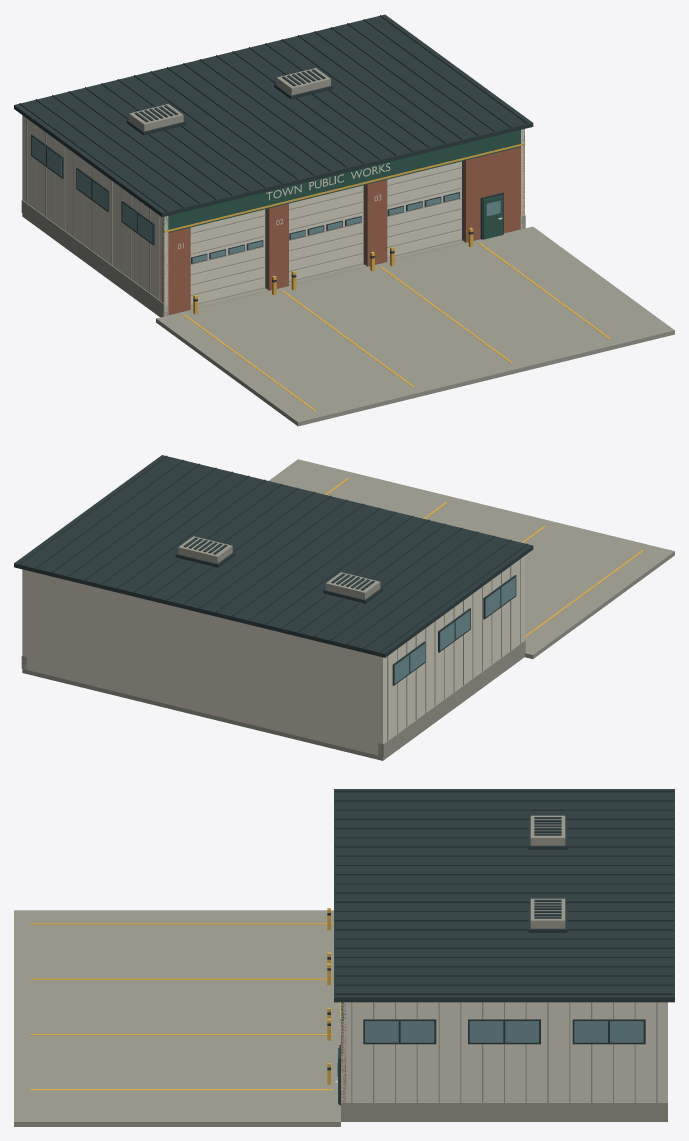
The model's file is public_works.glb.
3 views of the same model, one above another, from view 1: azimuth 30°, elevation 25°; view 2: azimuth 150°, elevation 25°; view 3: azimuth 270°, elevation 25° (orthographic). The views are drawn at different scales.
Visible parts, largest first — view 1: FleetGarage, Bay1Panel2, Bay1Panel5, Bay1Panel3, Bay1Panel4, Bay1Panel6, Bay1Panel7, Bay3Panel6, Bay2Panel4, Bay2Panel5, Bay2Panel6, Bay2Panel7 (+10 smaller); view 2: FleetGarage; view 3: FleetGarage.
Boxes of the visible parts, bbox=[...] form: FleetGarage: bbox=[14, 14, 674, 426]; Bay1Panel2: bbox=[190, 268, 265, 296]; Bay1Panel5: bbox=[190, 237, 265, 265]; Bay1Panel3: bbox=[190, 258, 265, 285]; Bay1Panel4: bbox=[190, 247, 265, 275]; Bay1Panel6: bbox=[190, 227, 265, 255]; Bay1Panel7: bbox=[190, 217, 265, 244]; Bay3Panel6: bbox=[387, 179, 462, 207]; Bay2Panel4: bbox=[289, 223, 363, 251]; Bay2Panel5: bbox=[289, 213, 363, 241]; Bay2Panel6: bbox=[289, 203, 363, 231]; Bay2Panel7: bbox=[289, 192, 363, 220]; FleetGarage: bbox=[14, 455, 674, 760]; FleetGarage: bbox=[14, 789, 674, 1126].
Size of the model in its own units: 23 by 7.08 by 30.32.
